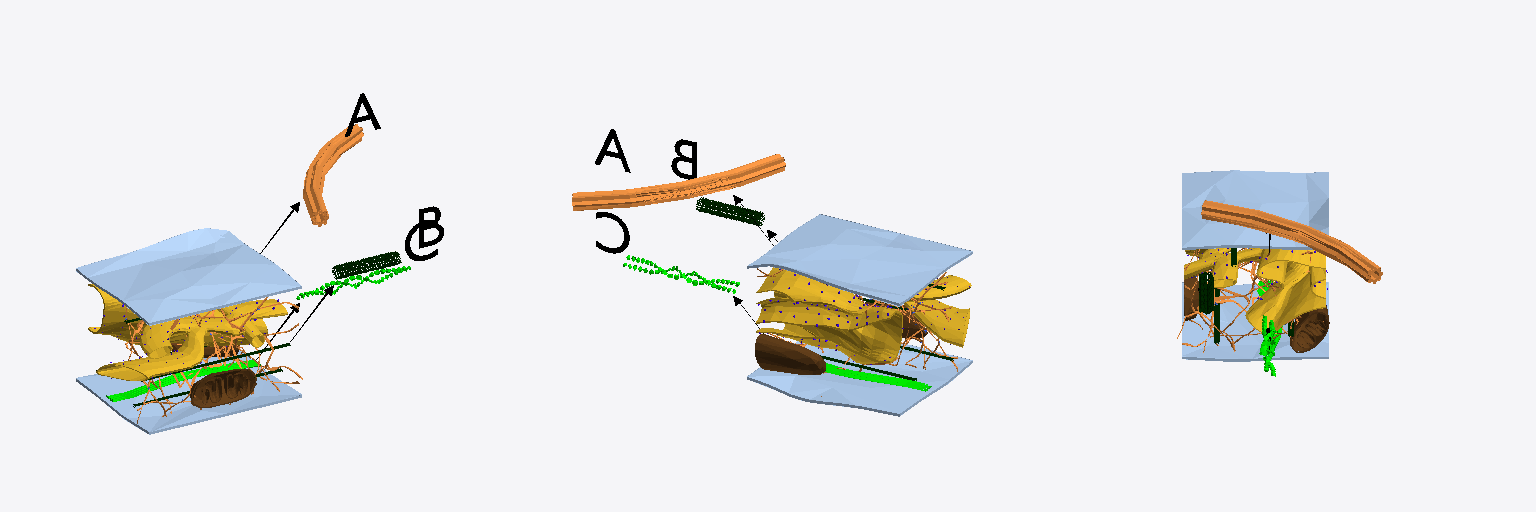
The model's file is To_blender_5-2-210830lowmesh.obj.
3 renders of one model, left to right at view 1: azimuth 30°, elevation 25°; view 2: azimuth 150°, elevation 25°; view 3: azimuth 270°, elevation 25°, orthographic.
Visible parts, largest first — view 1: 1, 5, a_20, 19, 8, 3, 7, b_24, c_22, 15, 文字.001_文字.003; view 2: 1, 5, a_20, 13, 19, b_24, 3, c_22, 15, 文字.001_文字.003; view 3: 1, 5, a_20, 19, 13, b_24.
Part boxes in pixels (x1,y1,x2,y2): 1: (76, 228, 301, 434); 5: (88, 284, 287, 380); a_20: (303, 124, 363, 226); 19: (125, 297, 302, 423); 8: (190, 369, 256, 407); 3: (106, 360, 260, 401); 7: (201, 373, 247, 404); b_24: (332, 251, 401, 279); c_22: (296, 266, 410, 299); 15: (96, 318, 290, 407); 文字.001_文字.003: (419, 206, 443, 248); 1: (747, 214, 972, 416); 5: (756, 267, 971, 364); a_20: (572, 154, 785, 210); 13: (755, 334, 825, 374); 19: (757, 268, 957, 396); b_24: (696, 197, 764, 225); 3: (825, 363, 931, 391); c_22: (623, 255, 739, 293); 15: (820, 284, 953, 380); 文字.001_文字.003: (671, 139, 696, 179); 1: (1182, 170, 1328, 361); 5: (1184, 248, 1325, 332); a_20: (1201, 200, 1382, 283); 19: (1177, 248, 1323, 352); 13: (1290, 306, 1329, 352); b_24: (1199, 272, 1213, 314).
Bounding box in the file's own units: 71.99 × 43.77 × 36.36.